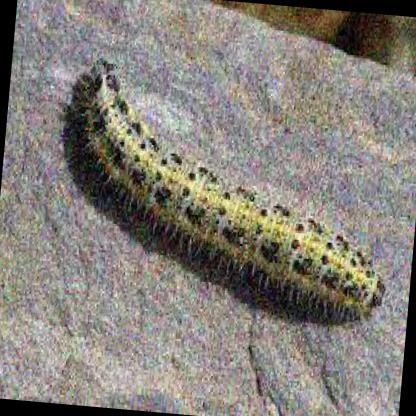pieris: (68, 57, 385, 333)
